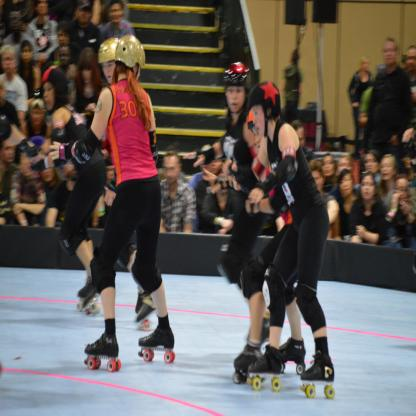Helmet: (248, 81, 281, 139), (115, 35, 144, 80), (41, 67, 67, 116), (225, 60, 251, 106), (98, 38, 118, 66)
